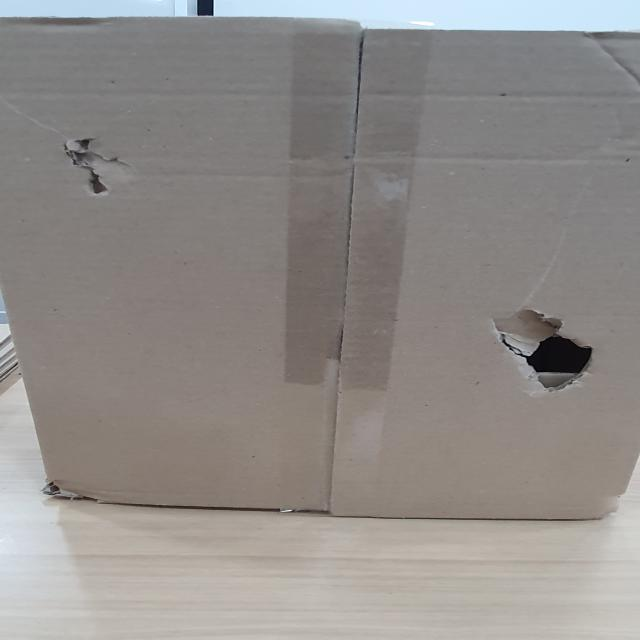hole: (490, 317, 606, 399), (48, 133, 134, 205)
